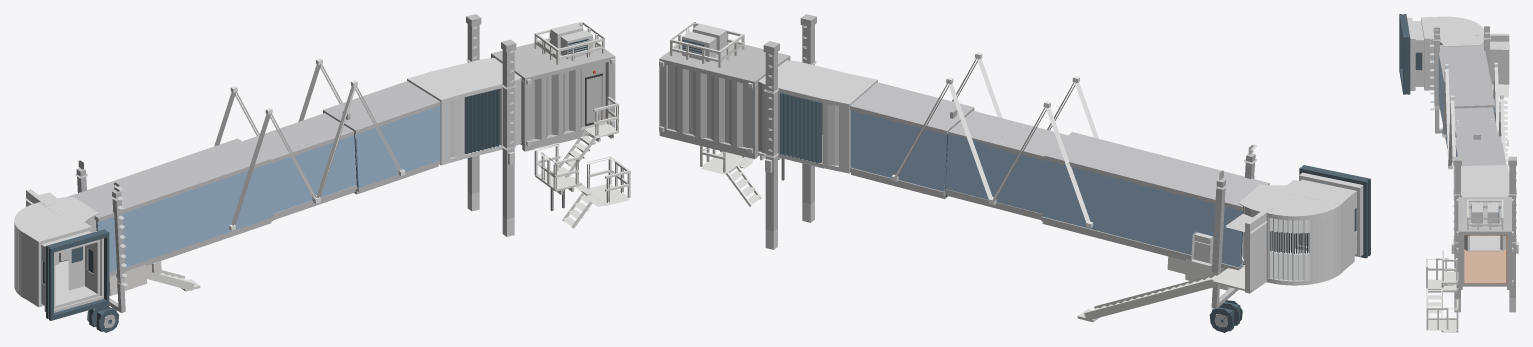
The model's file is Jetway.fbx.
3 renders of one model, left to right at view 1: azimuth 30°, elevation 25°; view 2: azimuth 150°, elevation 25°; view 3: azimuth 270°, elevation 25°, orthographic. The views are drawn at different scales.
Visible parts, largest first — view 1: Part555; view 2: Part555; view 3: Part555.
Boxes of the visible parts, x1,y1,x2,y2 form: Part555: (14,14,630,332); Part555: (659,14,1370,332); Part555: (1399,14,1518,332).
Bounding box in the file's own units: 10975 × 3382 × 2377.
